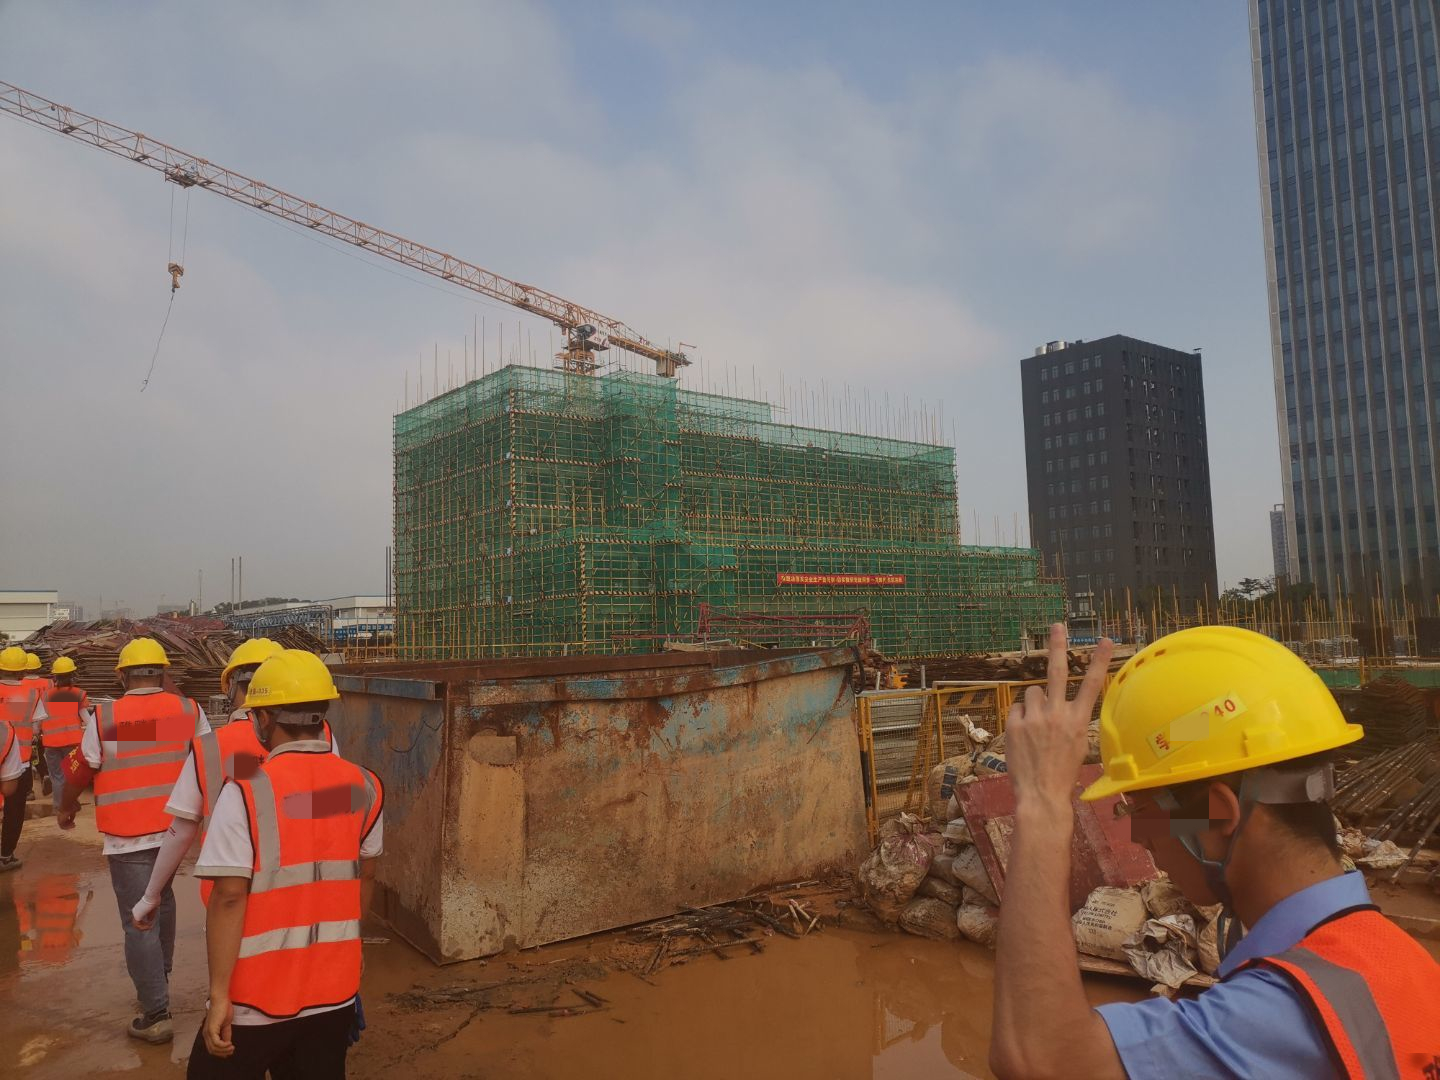helmet: (1075, 627, 1370, 799), (247, 659, 349, 704), (214, 639, 286, 689), (114, 641, 168, 666), (1, 650, 29, 669), (45, 659, 74, 677)
hopper: (166, 261, 186, 296)
person: (979, 616, 1440, 1078), (177, 657, 379, 1080), (149, 641, 291, 898), (110, 640, 202, 1034), (26, 659, 90, 811), (1, 648, 40, 824)
vest: (212, 755, 377, 1034), (1209, 903, 1440, 1080), (190, 723, 321, 812), (101, 700, 188, 832), (1, 675, 45, 752), (43, 688, 85, 761)
